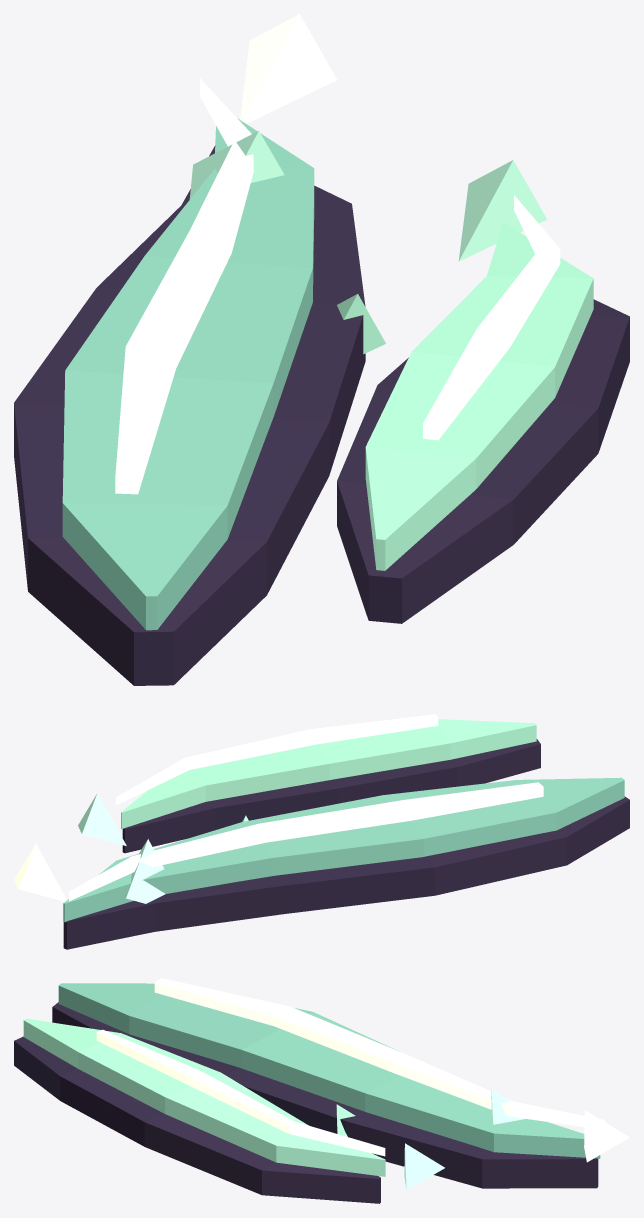
Rendered from undead_small_spirit_claws_v3.glb.
3 views of the same model, one above another, from view 1: azimuth 30°, elevation 25°; view 2: azimuth 150°, elevation 25°; view 3: azimuth 270°, elevation 25° (orthographic). The views are drawn at different scales.
Parts seen in each view (by area): view 1: ClawA_Body, ClawA_Dark, ClawB_Body, ClawB_Dark, ClawA_Core, ClawB_Core, ShardB, ShardC, ShardA, ShardD; view 2: ClawA_Dark, ClawA_Body, ClawB_Body, ClawB_Dark, ClawA_Core, ClawB_Core, ShardB, ShardC, ShardA; view 3: ClawA_Body, ClawB_Dark, ClawB_Body, ClawA_Dark, ClawA_Core, ClawB_Core, ShardB, ShardC, ShardA.
Boxes of the visible parts, left/top/right/bottom form: ClawA_Body: left=62, top=118, right=314, bottom=630; ClawA_Dark: left=14, top=145, right=365, bottom=685; ClawB_Body: left=365, top=223, right=593, bottom=570; ClawB_Dark: left=337, top=299, right=629, bottom=623; ClawA_Core: left=115, top=78, right=253, bottom=494; ClawB_Core: left=423, top=195, right=560, bottom=440; ShardB: left=240, top=14, right=337, bottom=123; ShardC: left=458, top=160, right=546, bottom=261; ShardA: left=189, top=131, right=284, bottom=199; ShardD: left=337, top=294, right=385, bottom=354; ClawA_Dark: left=63, top=796, right=629, bottom=949; ClawA_Body: left=63, top=777, right=624, bottom=922; ClawB_Body: left=121, top=719, right=536, bottom=828; ClawB_Dark: left=122, top=739, right=540, bottom=853; ClawA_Core: left=69, top=782, right=543, bottom=901; ClawB_Core: left=116, top=714, right=438, bottom=805; ShardB: left=14, top=844, right=66, bottom=901; ShardC: left=78, top=793, right=126, bottom=845; ShardA: left=124, top=839, right=165, bottom=903; ClawA_Body: left=58, top=983, right=600, bottom=1158; ClawB_Dark: left=14, top=1036, right=380, bottom=1203; ClawB_Body: left=23, top=1018, right=385, bottom=1176; ClawA_Dark: left=52, top=1002, right=598, bottom=1188; ClawA_Core: left=154, top=978, right=605, bottom=1127; ClawB_Core: left=96, top=1029, right=385, bottom=1156; ShardB: left=584, top=1110, right=629, bottom=1162; ShardC: left=404, top=1143, right=444, bottom=1189; ShardA: left=491, top=1089, right=525, bottom=1124.
Bounding box in the file's own units: 0.739 × 0.1693 × 0.9921.
